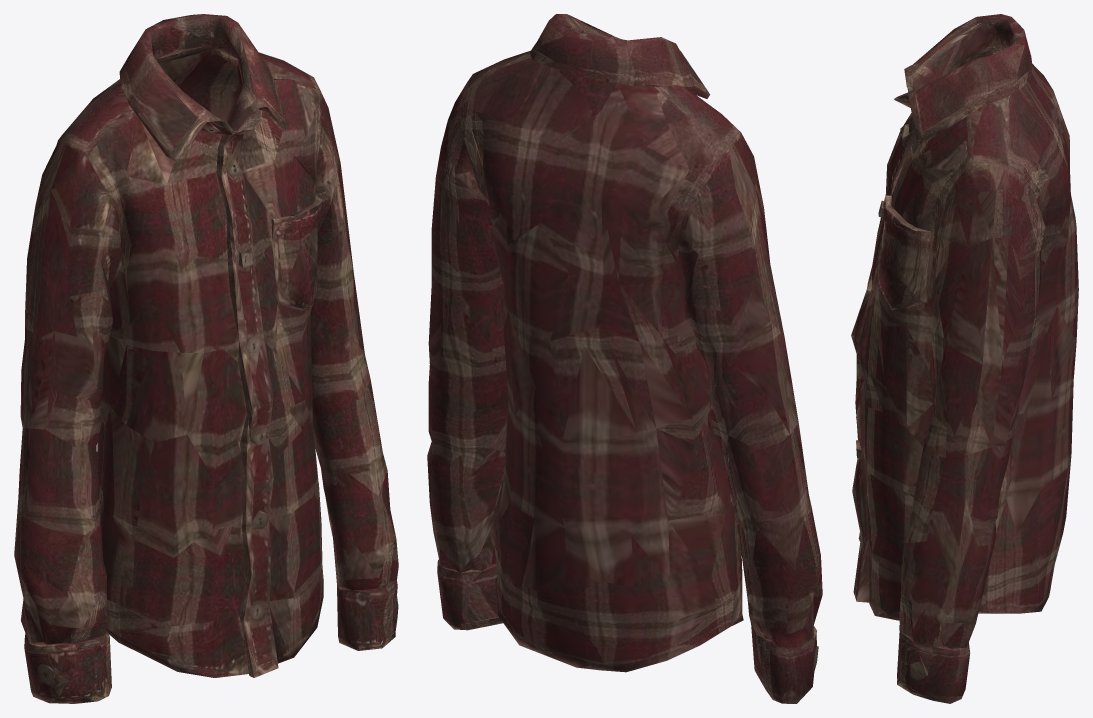
The model's file is shirt.glb.
3 views of the same model, side by side, from view 1: azimuth 30°, elevation 25°; view 2: azimuth 150°, elevation 25°; view 3: azimuth 270°, elevation 25° (orthographic). The views are drawn at different scales.
Visible parts, largest first — view 1: shirt; view 2: shirt; view 3: shirt.
Boxes of the visible parts, x1,y1,x2,y2 form: shirt: (14, 14, 398, 703); shirt: (427, 14, 822, 703); shirt: (851, 14, 1078, 703).
Bounding box in the file's own units: 0.5796 × 0.95 × 0.3302.
1 material, 1 textured.
